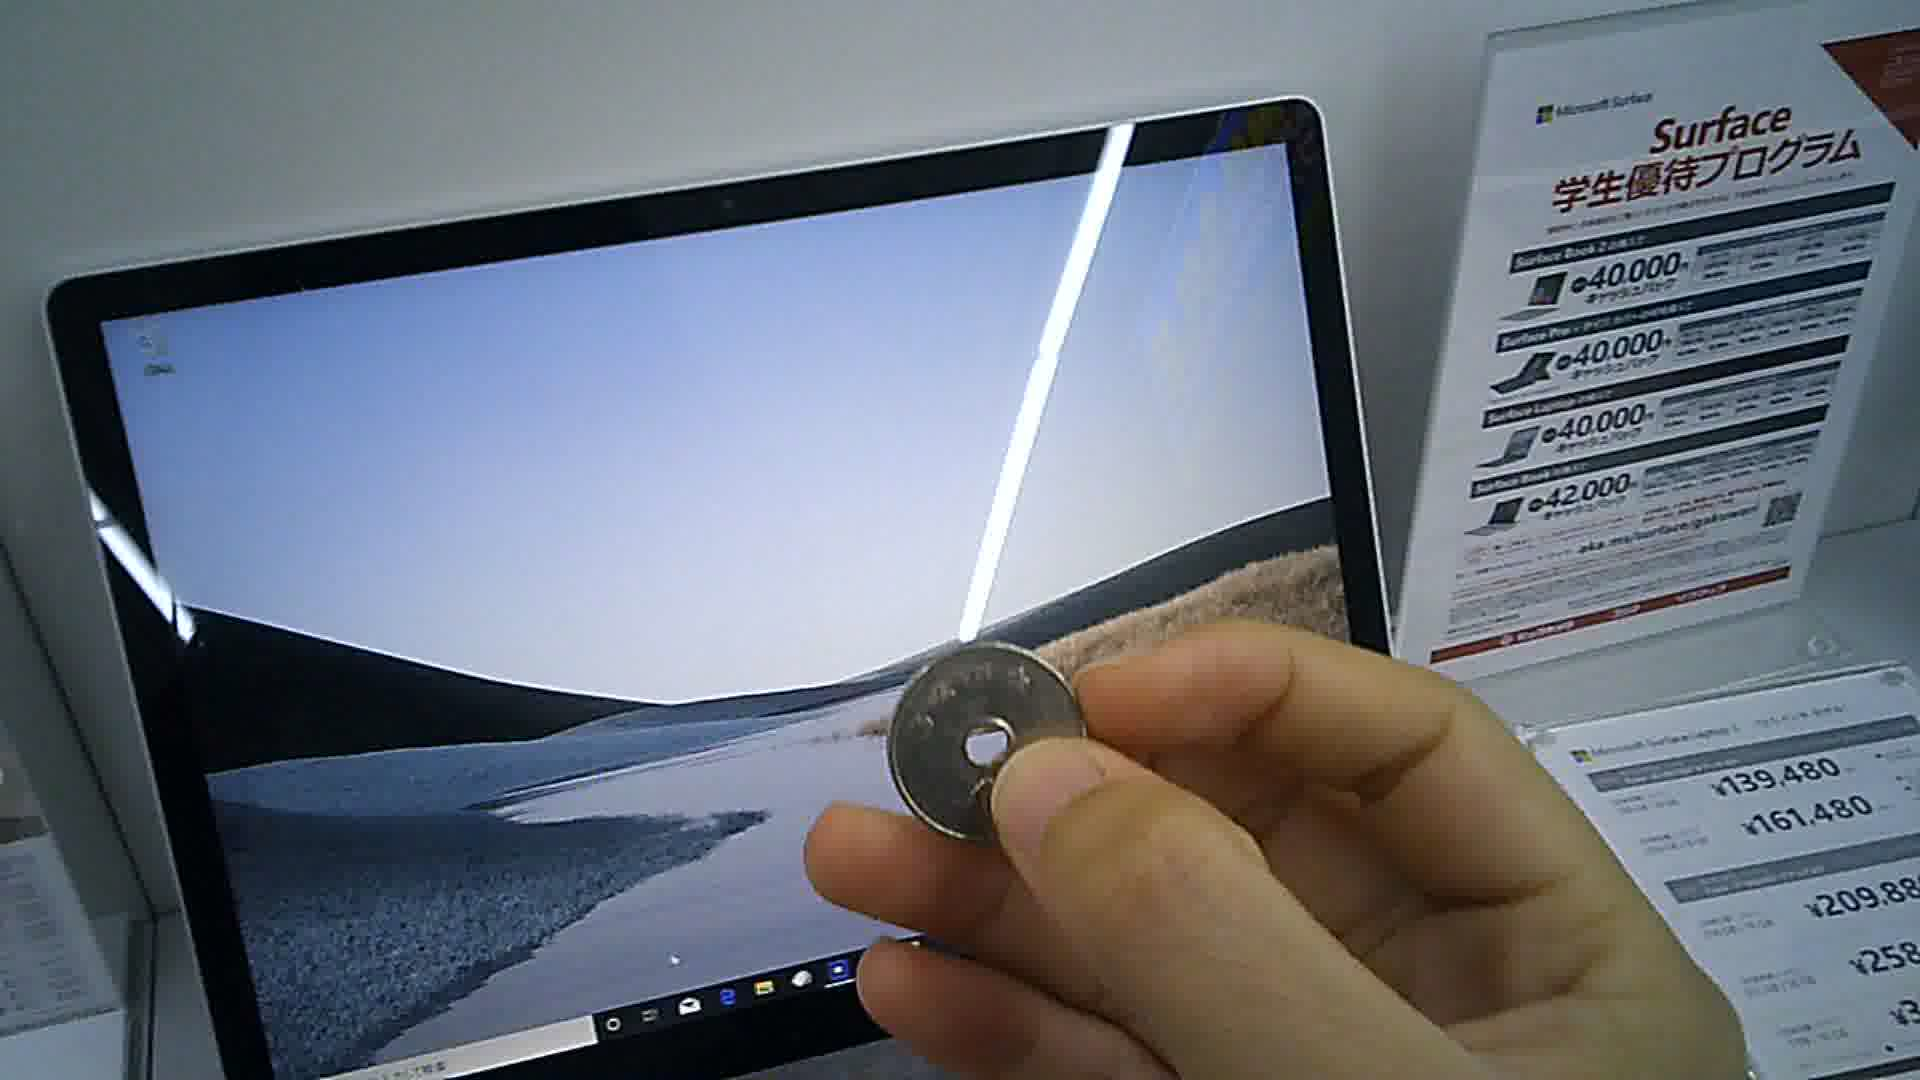50 Yen: (885, 640, 1089, 855)
